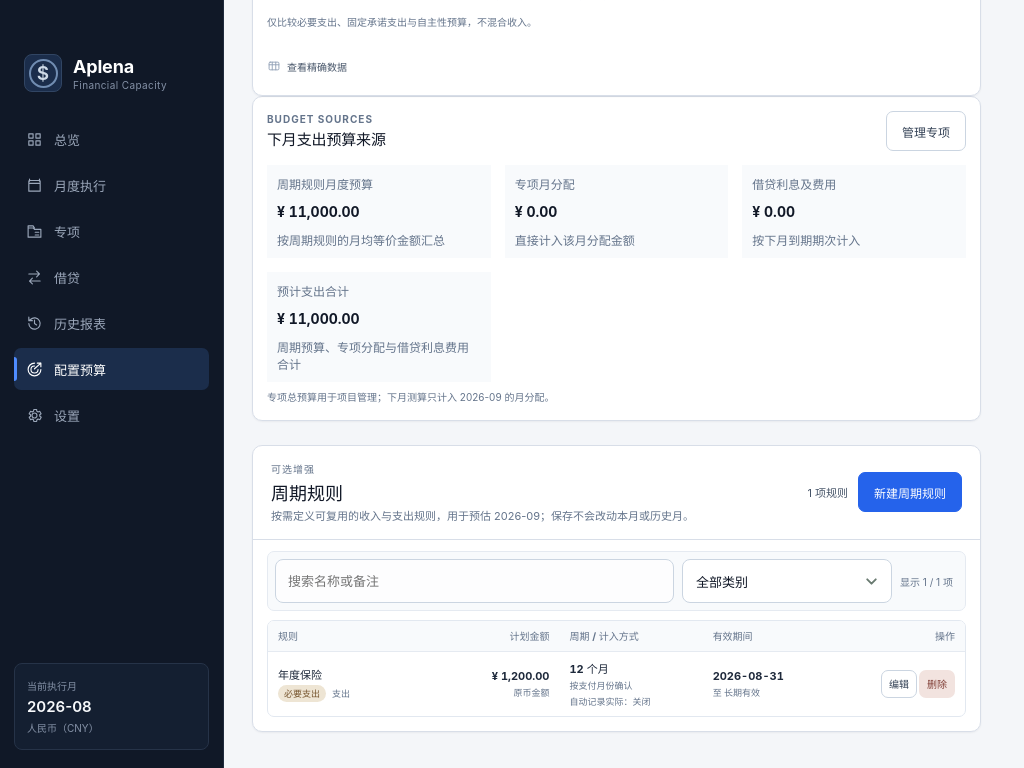
it: planning workflows › previews and saves an edited recurring rule
(page scrolled)
Click the button "编辑" at (899, 684), box [881, 670, 917, 698]
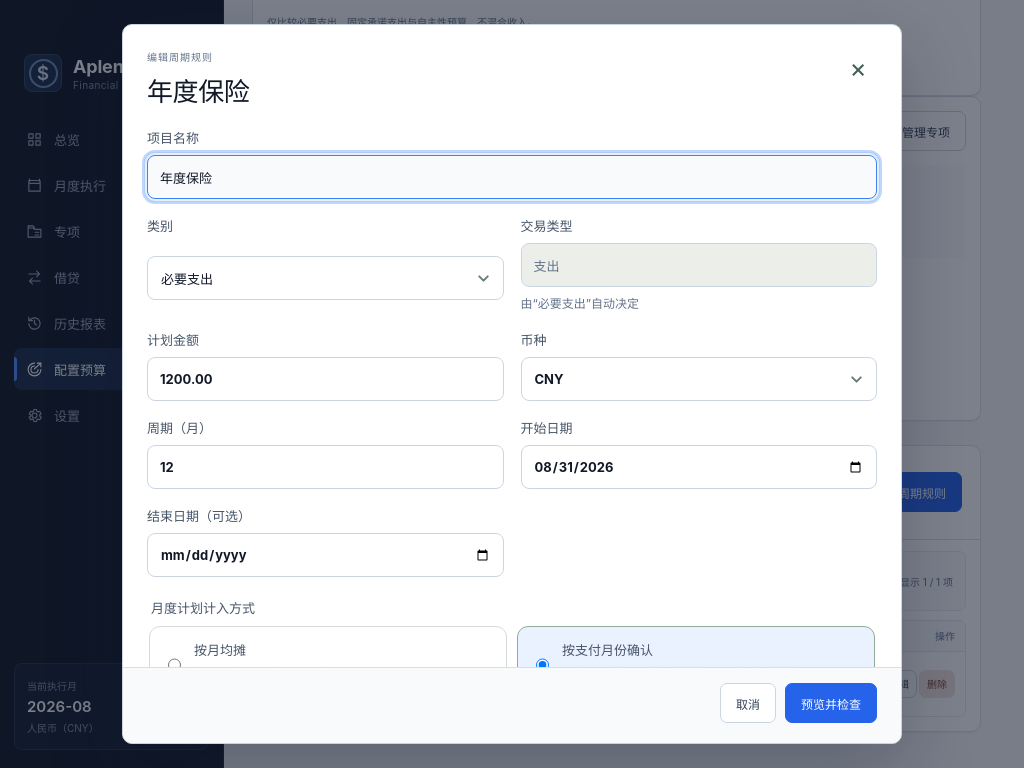
Replace the text in the field labelled "计划金额" with "2400" at (325, 379), box [147, 357, 504, 401]
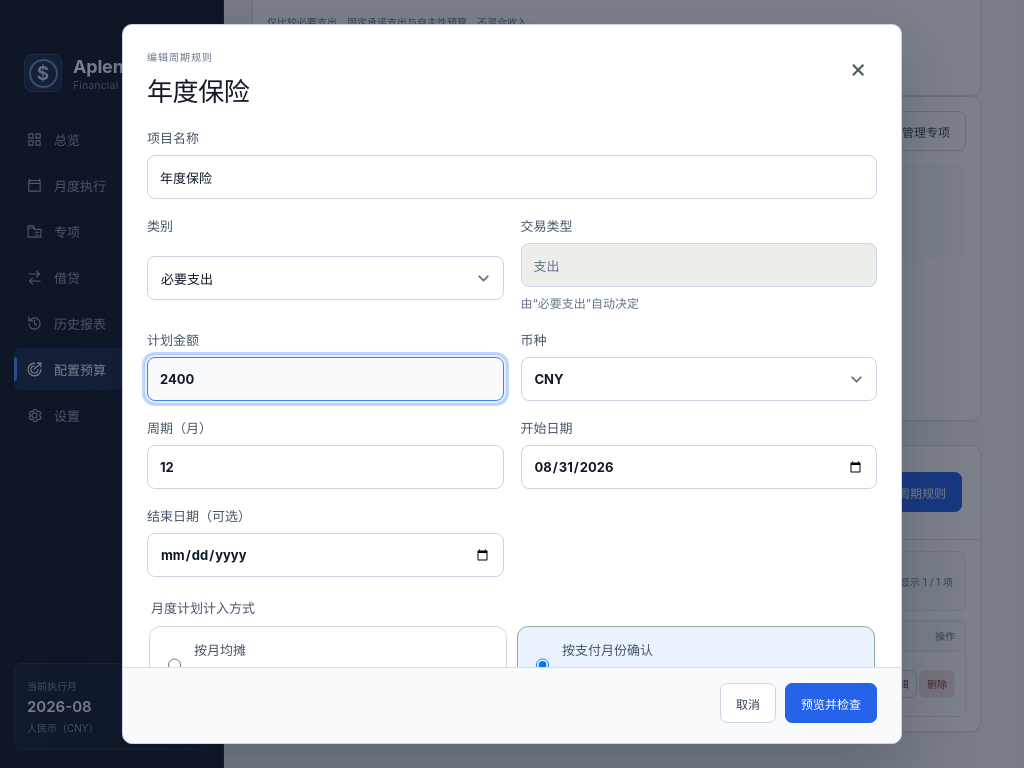
Expected: the button "确认保存" is not shown
Expected: the button "预览并检查" is enabled
Click the button "预览并检查" at (831, 703), box [785, 683, 877, 723]
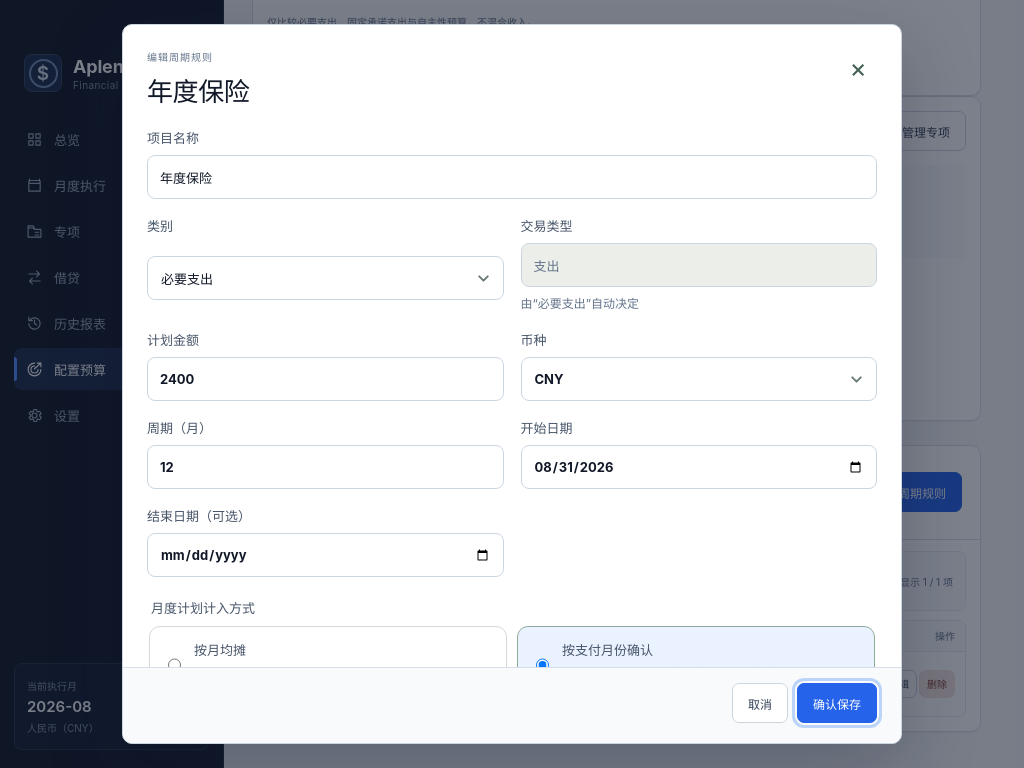
Expected: the button "确认保存" is enabled
Click the button "确认保存" at (837, 703), box [797, 683, 877, 723]
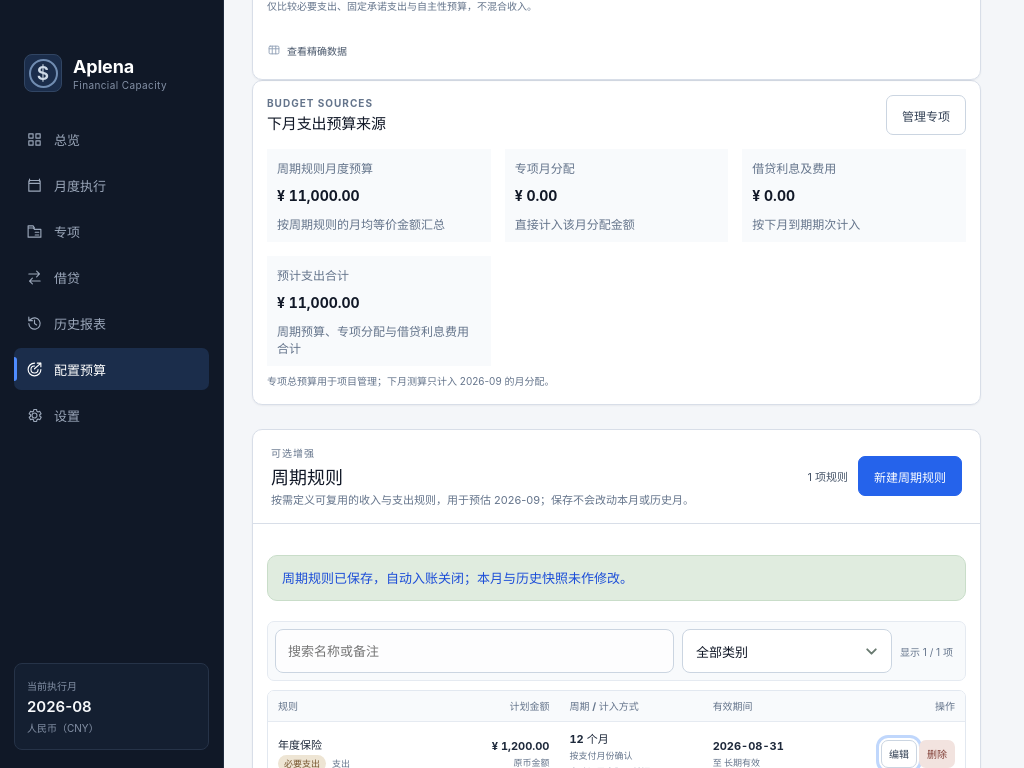
Expected: the text "周期规则已保存，自动入账关闭；本月与历史快照未作修改。" is shown, [267, 555, 966, 601]
